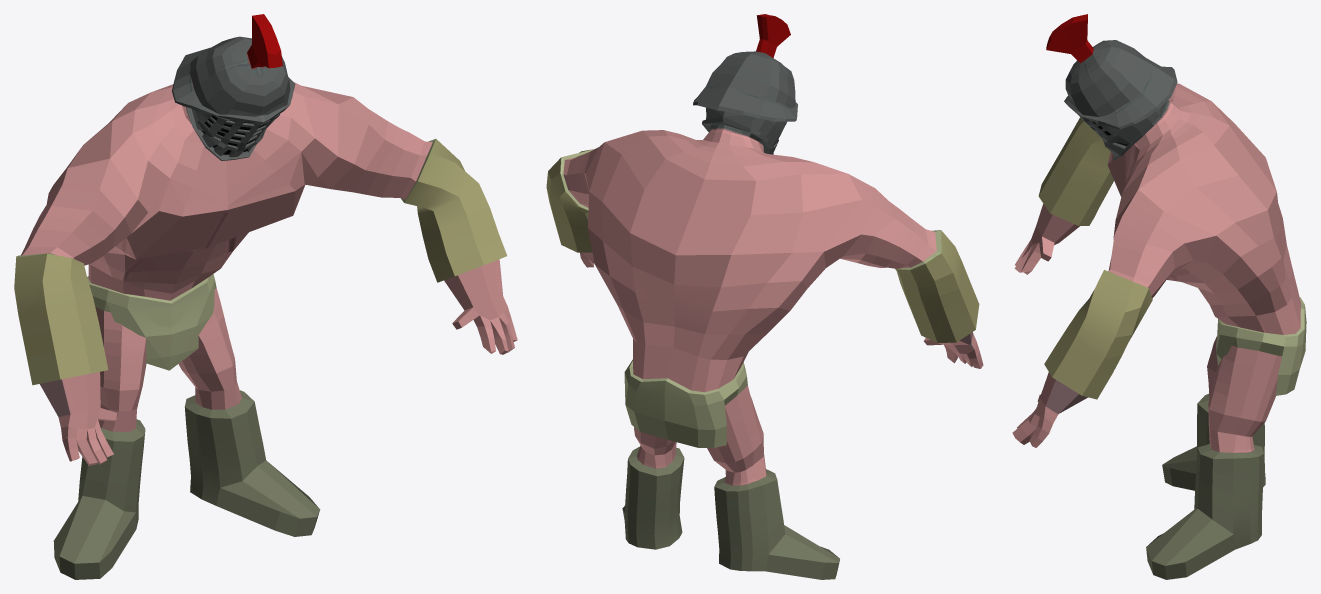
The model's file is GladiatorCelebracion_000511.obj.
3 renders of one model, left to right at view 1: azimuth 30°, elevation 25°; view 2: azimuth 150°, elevation 25°; view 3: azimuth 270°, elevation 25°, orthographic. The views are drawn at different scales.
Parts seen in each view (by area): view 1: Gadiador_Gladiador_H; view 2: Gadiador_Gladiador_H; view 3: Gadiador_Gladiador_H.
Part boxes in pixels (box(x1,y1,x2,y2)): Gadiador_Gladiador_H: box(14, 14, 517, 579); Gadiador_Gladiador_H: box(546, 14, 983, 579); Gadiador_Gladiador_H: box(1012, 14, 1306, 579).
Size of the model in its own units: 5.9 by 6.79 by 3.49.
Materials: 1 (1 with a texture image).
